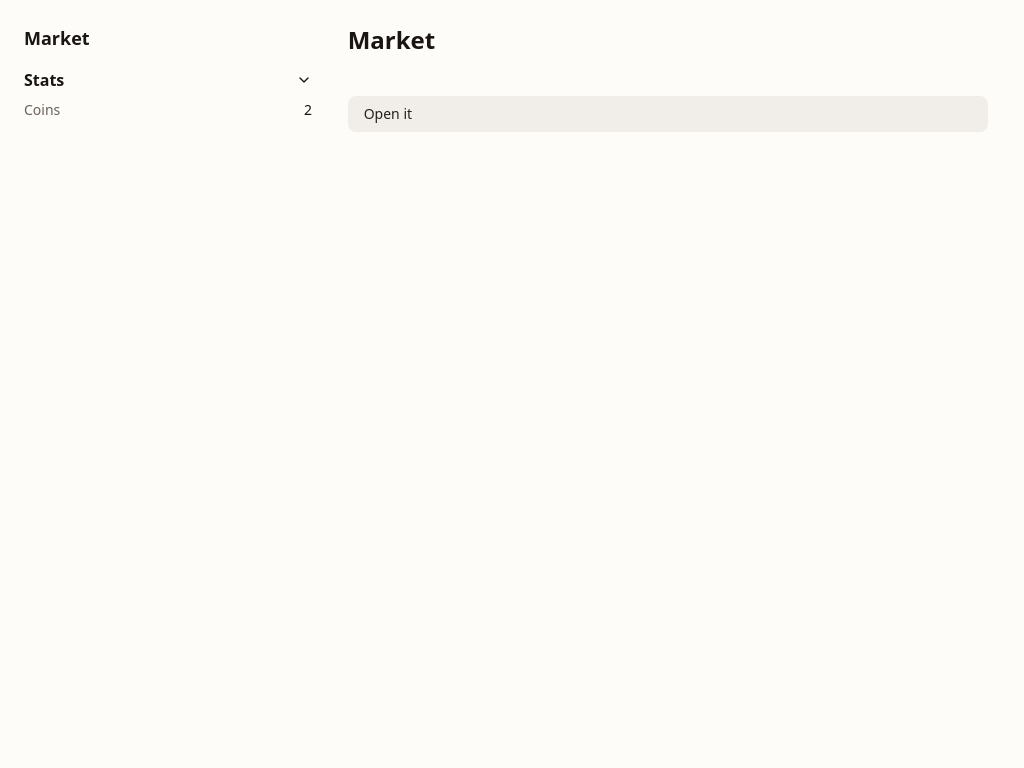
a panel found by name › a plugin UI’s alone: prices draws "Board: {}"
Click the button "Open it" at (388, 114), box [348,96,988,132]
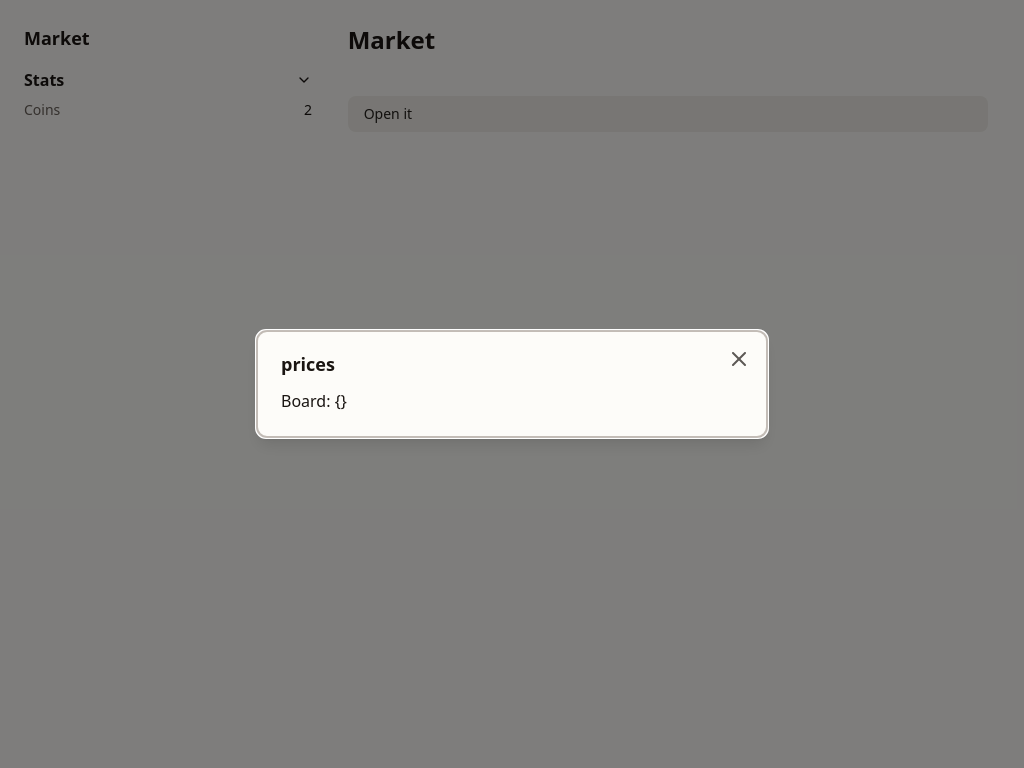
Expected: the dialog shows "Board: {}", [256,330,768,438]
